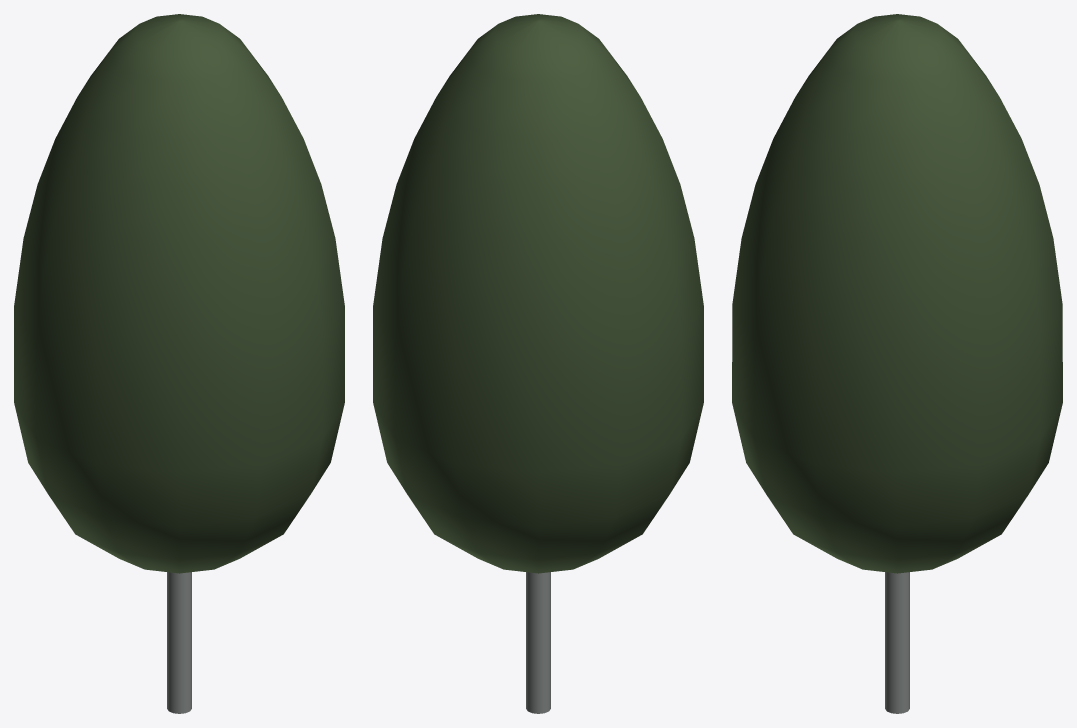
Rendered from Sassafras_Analytical_0.obj.
3 views of the same model, side by side, from view 1: azimuth 30°, elevation 25°; view 2: azimuth 150°, elevation 25°; view 3: azimuth 270°, elevation 25° (orthographic).
Parts seen in each view (by area): view 1: AnalyticalCrown, AnalyticalTrunk; view 2: AnalyticalCrown, AnalyticalTrunk; view 3: AnalyticalCrown, AnalyticalTrunk.
Part boxes in pixels (x1,y1,x2,y2): AnalyticalCrown: (14,14,344,573); AnalyticalTrunk: (167,572,191,713); AnalyticalCrown: (373,14,703,573); AnalyticalTrunk: (526,572,550,713); AnalyticalCrown: (732,14,1062,573); AnalyticalTrunk: (885,572,909,713).
Bounding box in the file's own units: 5.88 × 13.5 × 5.88.
